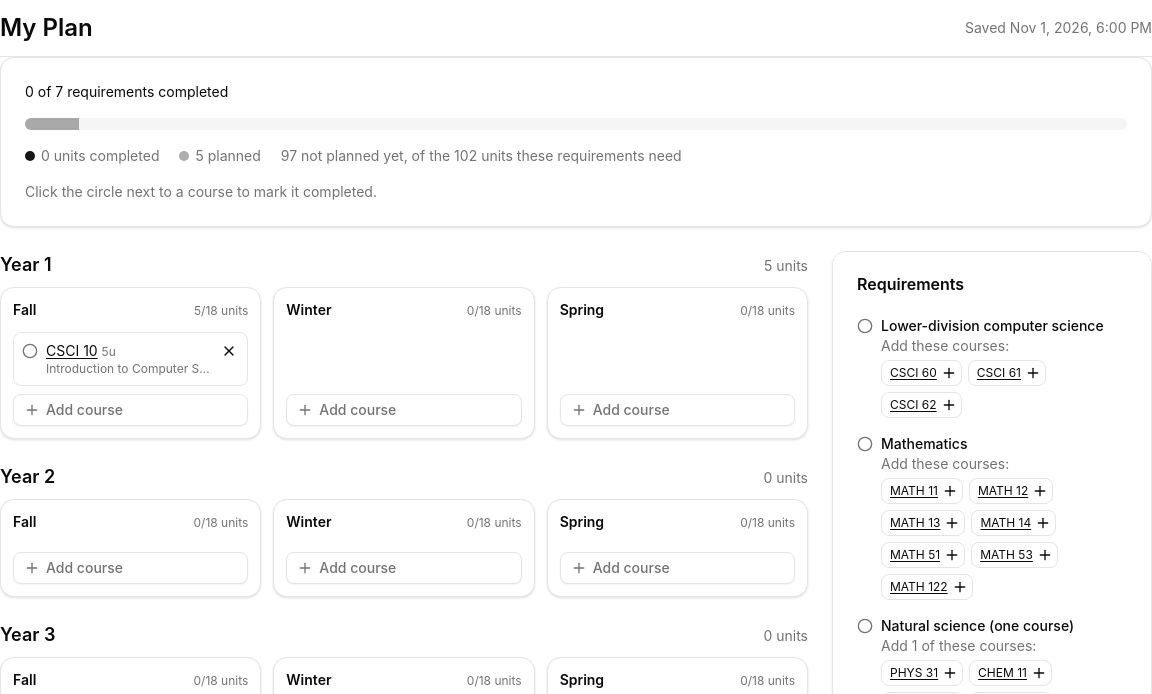
plan page › only offers courses that are not in the plan yet
What coordinates should you click on to do the following:
click the button with aria-label "Add a course to Year 1 Winter"
I would click on:
 (404, 410)
Its box is [286, 394, 522, 426].
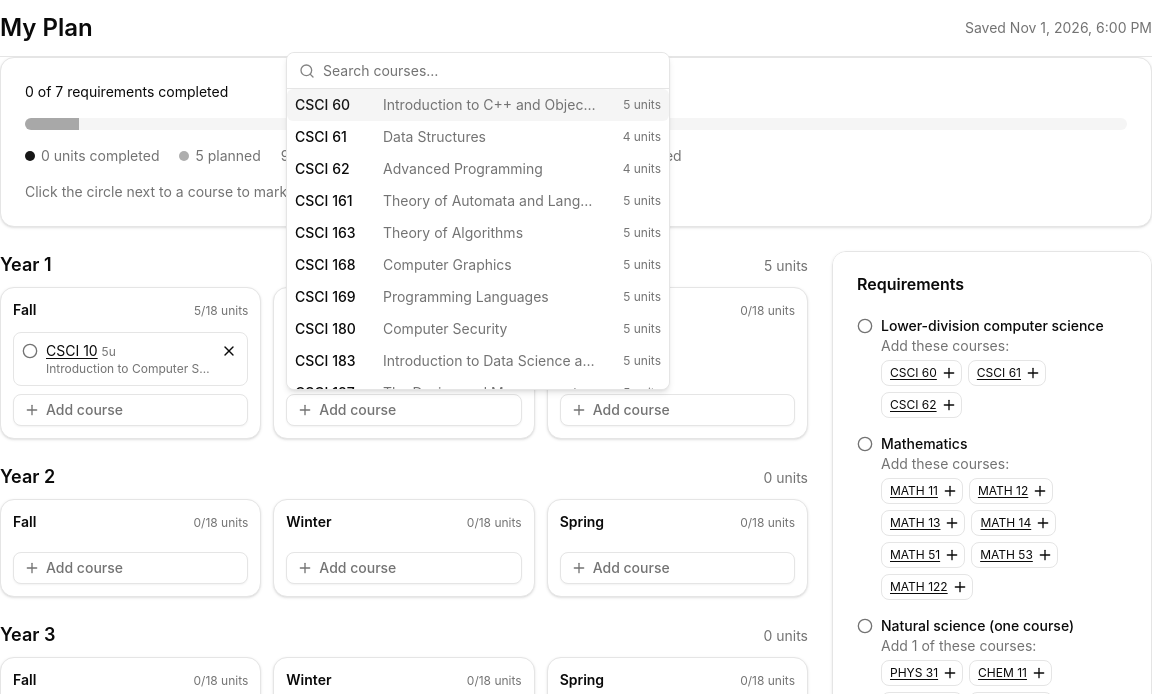
expect the option "CSCI 60" is shown: met, box [287, 89, 669, 121]
